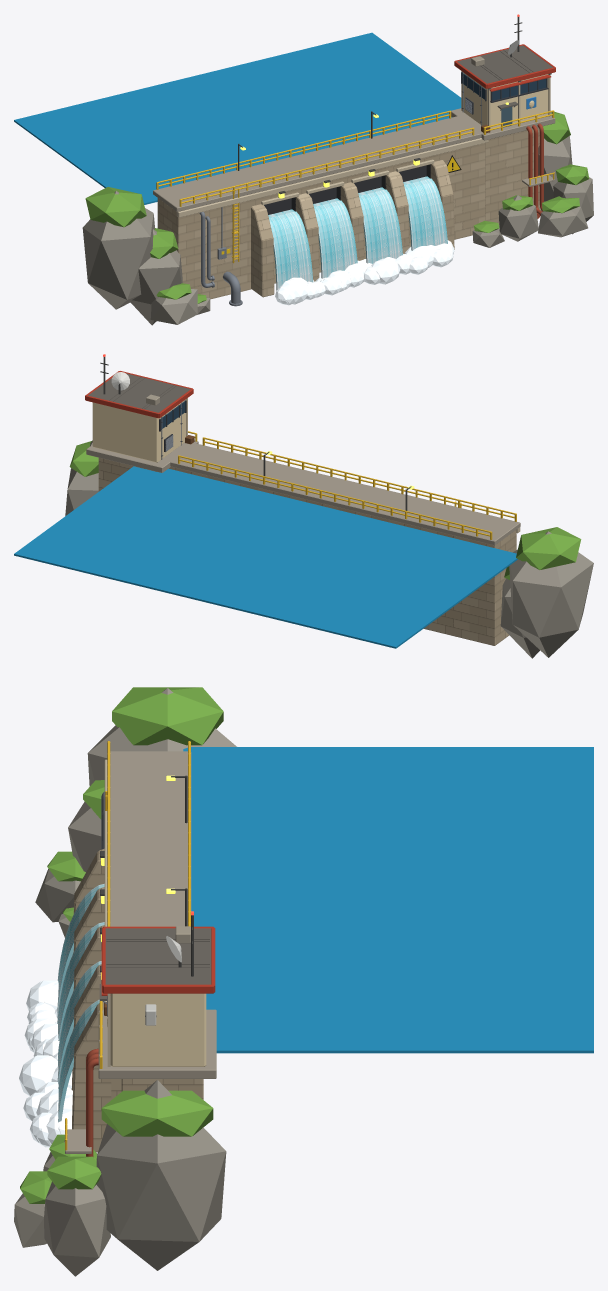
The model's file is the-dam.glb.
3 views of the same model, one above another, from view 1: azimuth 30°, elevation 25°; view 2: azimuth 150°, elevation 25°; view 3: azimuth 270°, elevation 25° (orthographic). The views are drawn at different scales.
Parts seen in each view (by area): view 1: Water_Reservoir, Dam_Wall, Dam_Deck, Abutment_Rock_2, ControlHouse_Pillar, Water_Fall_1, Water_Fall_2, Water_Fall_0, Water_Fall_3, Dam_Coping, Pier_0, ControlHouse_Body (+25 smaller); view 2: Water_Reservoir, Dam_Deck, Abutment_Rock_2, Dam_Wall, ControlHouse_Body, Abutment_Rock_2_Grass, ControlHouse_RoofSlab, ControlHouse_Platform, Abutment_Rock_4, Abutment_Rock_0, RailBack_Bar_20.1, Abutment_Rock_4_Grass (+6 smaller); view 3: Water_Reservoir, Abutment_Rock_4, Dam_Deck, ControlHouse_Body, ControlHouse_RoofSlab, Abutment_Rock_2_Grass, Abutment_Rock_6, Abutment_Rock_4_Grass, Pier_4, ControlHouse_Platform, Abutment_Rock_2, Abutment_Rock_0 (+16 smaller).
Boxes of the visible parts, x1=… form: Water_Reservoir: x1=14, y1=32, x2=461, y2=204; Dam_Wall: x1=157, y1=143, x2=485, y2=299; Dam_Deck: x1=153, y1=114, x2=481, y2=211; Abutment_Rock_2: x1=82, y1=191, x2=154, y2=309; ControlHouse_Pillar: x1=485, y1=127, x2=540, y2=225; Water_Fall_1: x1=314, y1=200, x2=357, y2=278; Water_Fall_2: x1=359, y1=189, x2=402, y2=263; Water_Fall_0: x1=269, y1=211, x2=313, y2=290; Water_Fall_3: x1=404, y1=178, x2=447, y2=250; Dam_Coping: x1=176, y1=138, x2=488, y2=217; Pier_0: x1=251, y1=204, x2=274, y2=297; ControlHouse_Body: x1=461, y1=71, x2=548, y2=128; Water_Reservoir: x1=14, y1=466, x2=517, y2=648; Dam_Deck: x1=163, y1=443, x2=520, y2=545; Abutment_Rock_2: x1=509, y1=531, x2=593, y2=657; Dam_Wall: x1=169, y1=466, x2=516, y2=645; ControlHouse_Body: x1=92, y1=399, x2=186, y2=462; Abutment_Rock_2_Grass: x1=516, y1=527, x2=581, y2=569; ControlHouse_RoofSlab: x1=88, y1=373, x2=190, y2=412; ControlHouse_Platform: x1=86, y1=440, x2=198, y2=472; Abutment_Rock_4: x1=65, y1=440, x2=98, y2=515; Abutment_Rock_0: x1=500, y1=578, x2=539, y2=658; RailBack_Bar_20.1: x1=178, y1=455, x2=491, y2=532; Abutment_Rock_4_Grass: x1=69, y1=441, x2=98, y2=476; Water_Reservoir: x1=183, y1=747, x2=593, y2=1053; Abutment_Rock_4: x1=96, y1=1080, x2=226, y2=1270; Dam_Deck: x1=110, y1=751, x2=191, y2=926; ControlHouse_Body: x1=110, y1=993, x2=206, y2=1066; ControlHouse_RoofSlab: x1=105, y1=928, x2=211, y2=984; Abutment_Rock_2_Grass: x1=112, y1=687, x2=223, y2=745; Abutment_Rock_6: x1=44, y1=1181, x2=110, y2=1276; Abutment_Rock_4_Grass: x1=101, y1=1090, x2=213, y2=1136; Pier_4: x1=72, y1=1002, x2=111, y2=1152; ControlHouse_Platform: x1=98, y1=1009, x2=216, y2=1078; Abutment_Rock_2: x1=87, y1=688, x2=236, y2=786; Abutment_Rock_0: x1=68, y1=801, x2=101, y2=871.
Bounding box in the file's own units: 93.73 × 38.16 × 56.48.
28 materials, 2 textured.
